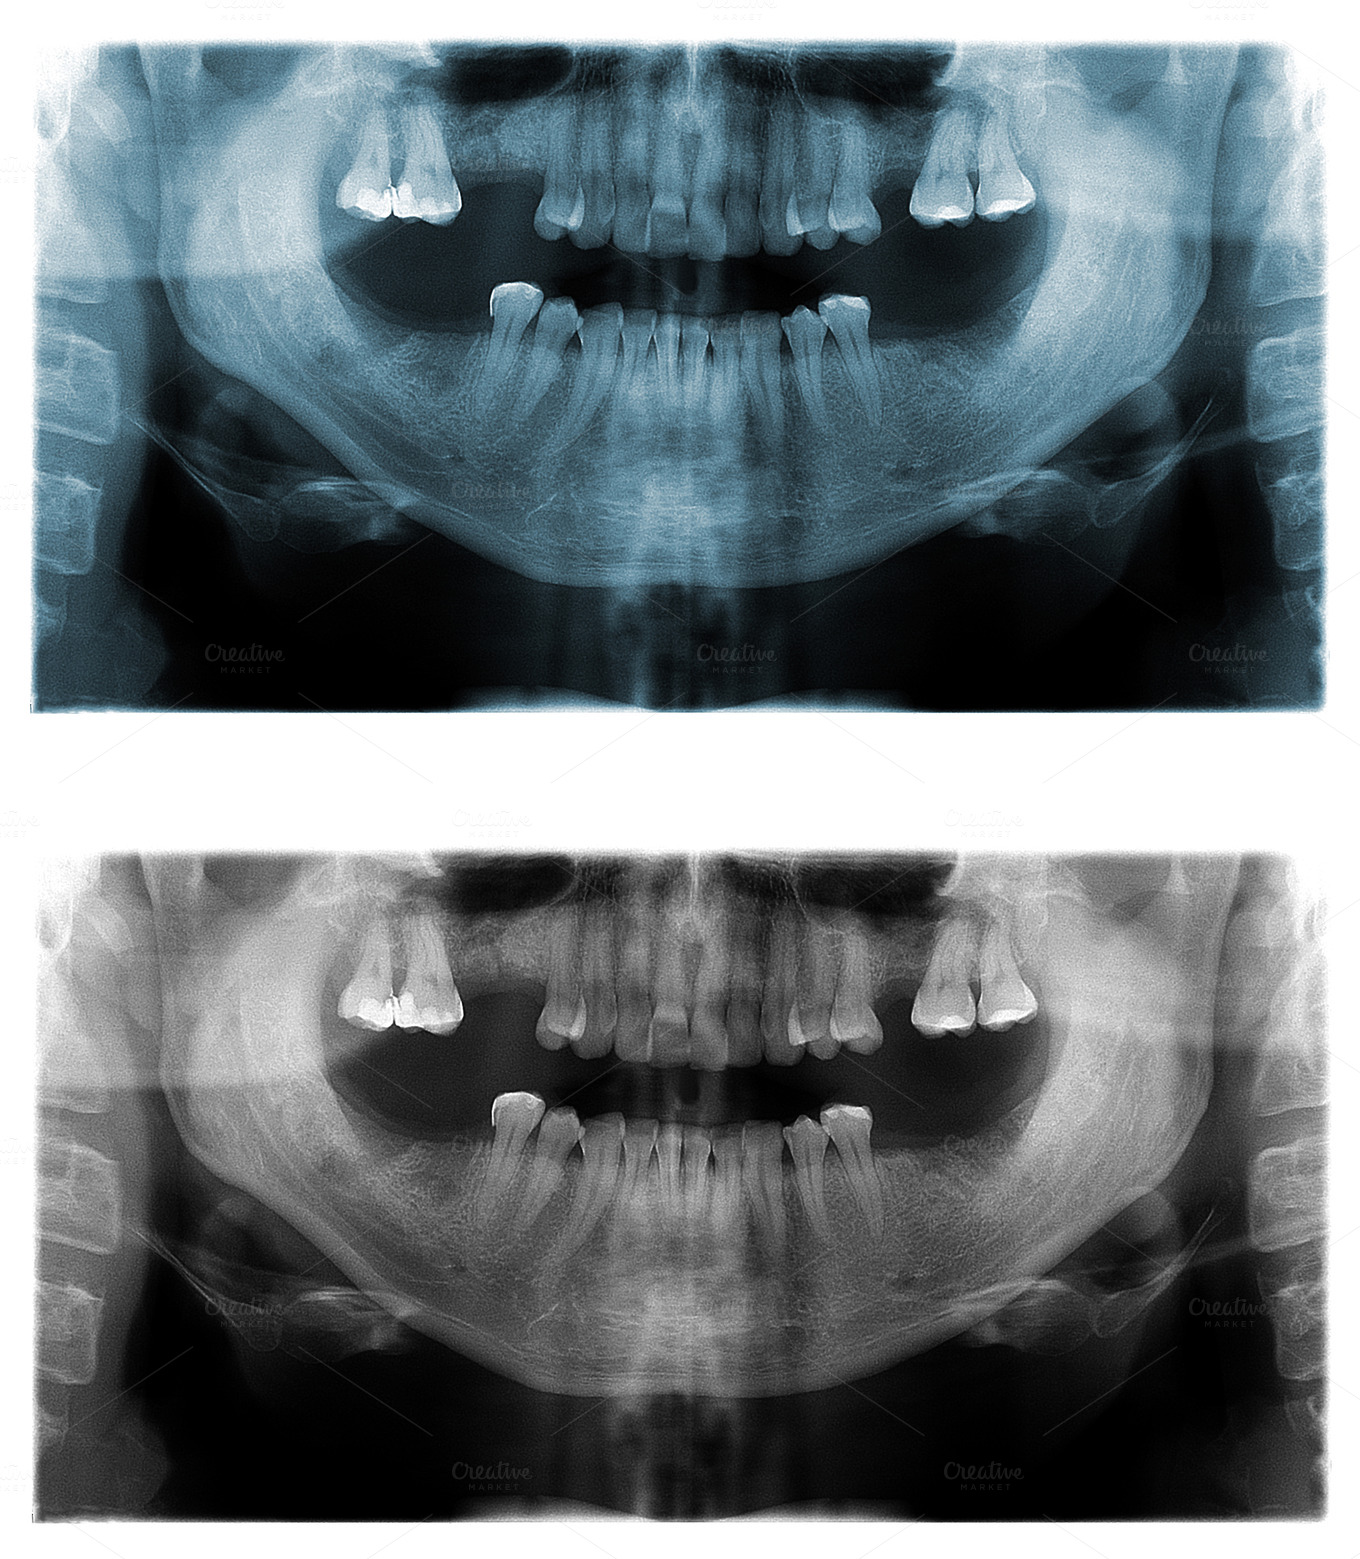canine: (756, 913, 813, 1074), (579, 890, 623, 1068)
incisor: (683, 917, 737, 1094), (612, 921, 663, 1088), (646, 904, 691, 1078), (722, 932, 775, 1066), (623, 1107, 664, 1240), (653, 1107, 691, 1238), (704, 1114, 744, 1232), (680, 1119, 714, 1228)
molar: (387, 897, 475, 1053), (893, 903, 986, 1039), (969, 909, 1056, 1037), (342, 897, 411, 1039)
premolar: (813, 1094, 911, 1246), (774, 904, 854, 1079), (824, 913, 889, 1068), (482, 1076, 555, 1214), (530, 907, 593, 1053), (571, 1096, 635, 1230), (779, 1103, 840, 1240), (533, 1078, 587, 1222)
